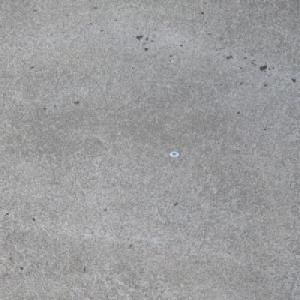Washer: (169, 151, 179, 157)
